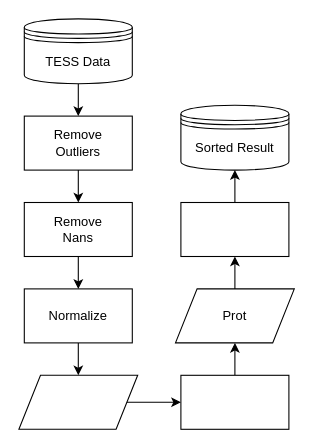
Some shapes in this 313 by 448 pixel diagram are drawn without their labels. The centre of each missing label's shape, as x and y in pixels:
"Clean lc" belongs at [78,401].
"Measure Prot by GLS" belongs at [234,401].
"Sort by Pmax" belongs at [234,228].
